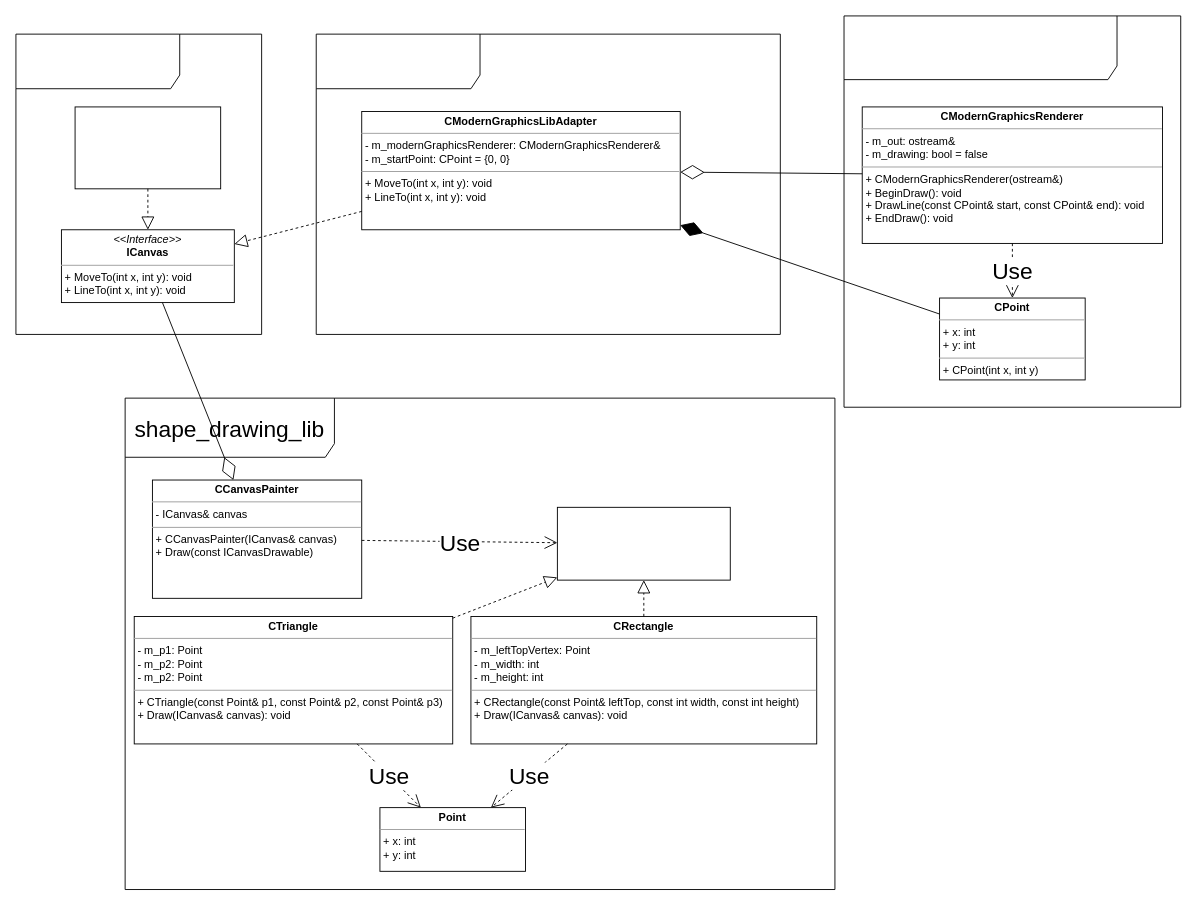
This 1197x905 diagram has some shape labels left out. The shapes that lost their labels are listed below. From the top down, each one's box as (x1, y1, x2, y2) in pixels, then its label:
(74, 106, 221, 189): CCanvas + MoveTo(int x, int y): void + LineTo(int x, int y): void
(15, 33, 262, 334): graphics_lib
(315, 33, 780, 334): app
(843, 15, 1181, 407): modern_graphics_lib
(556, 506, 730, 580): <<Interface>> ICanvasDrawable + Draw(ICanvas& canvas): void
